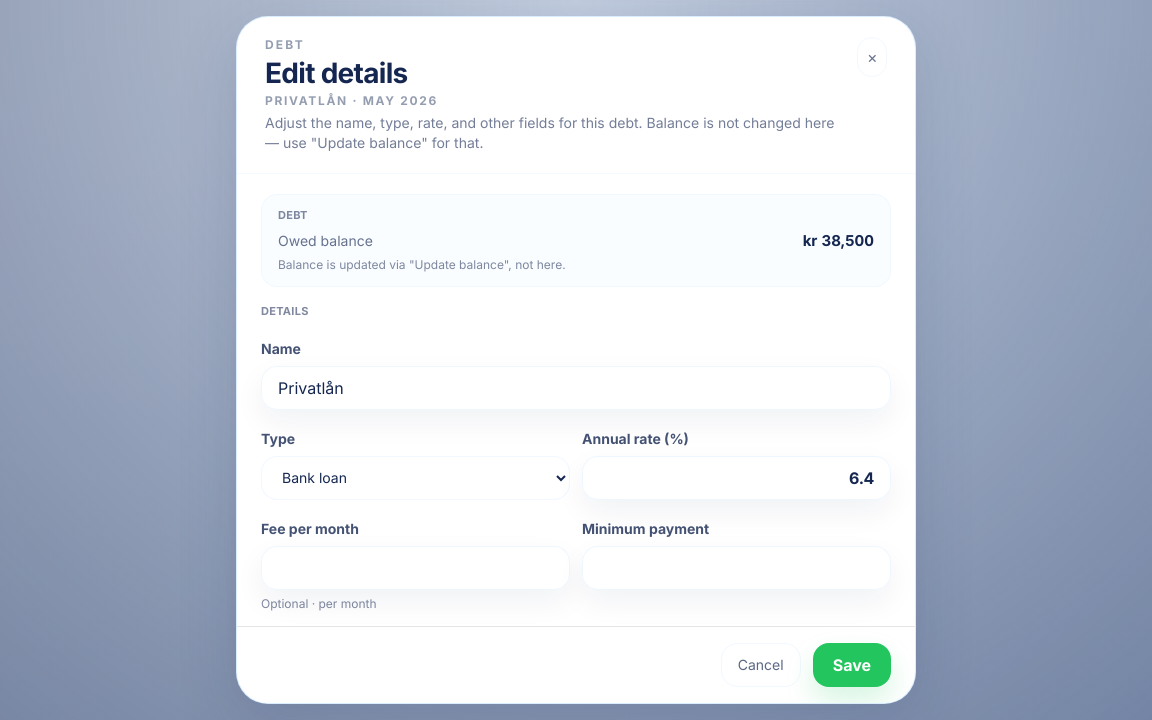
Test: DebtDetailsModal › rejects revolving submits without a min payment so renaming a card to revolving can't bypass the wizard rule
Select "Credit card" in the dropdown with test id "debt-details-type": (416, 478) [261,456,570,500]
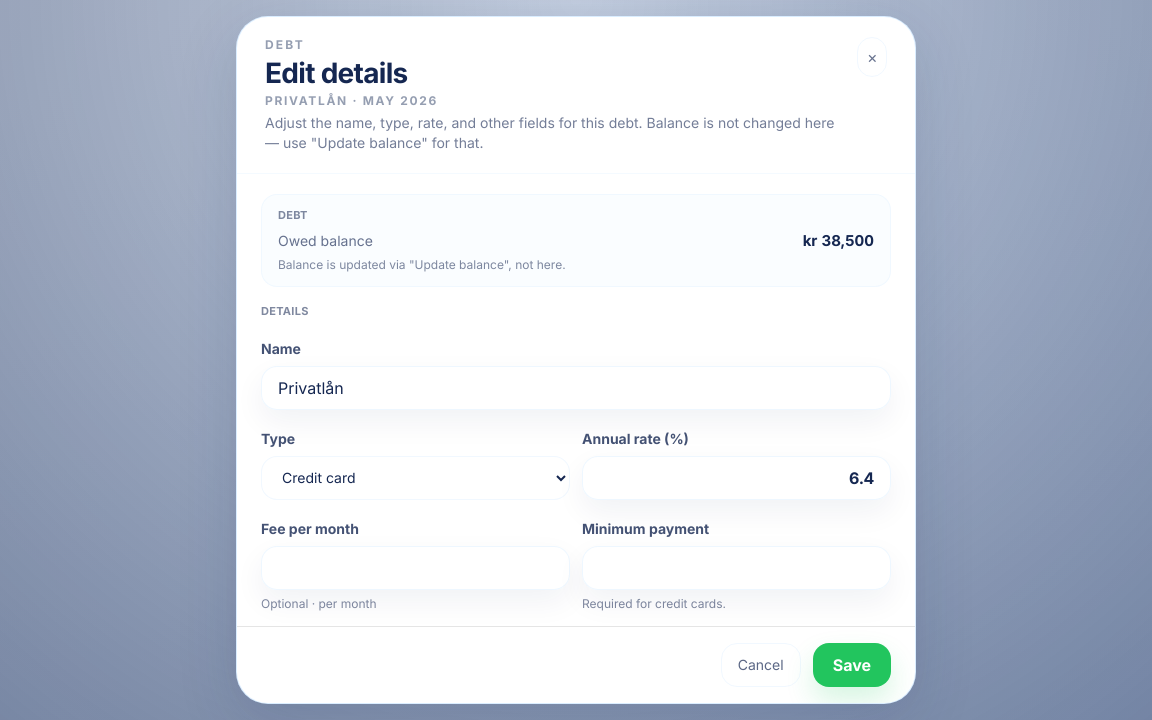
Click the button "Save": click(852, 665) [813,643,891,687]
(page scrolled)
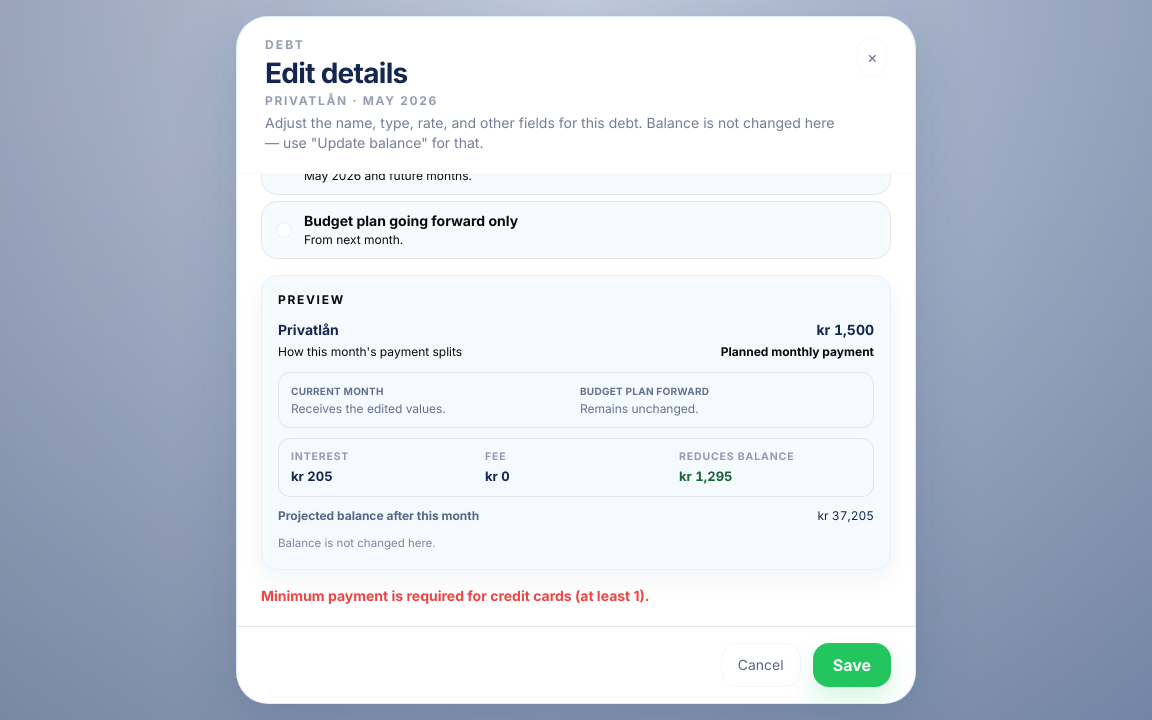
Expected: the text with test id "debt-details-error" shows "Minimum payment is required", [261,586,650,604]
